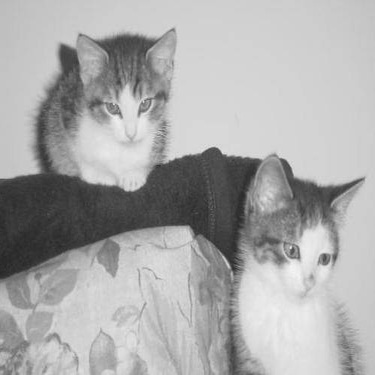cat: (235, 156, 368, 372), (35, 27, 177, 193)
